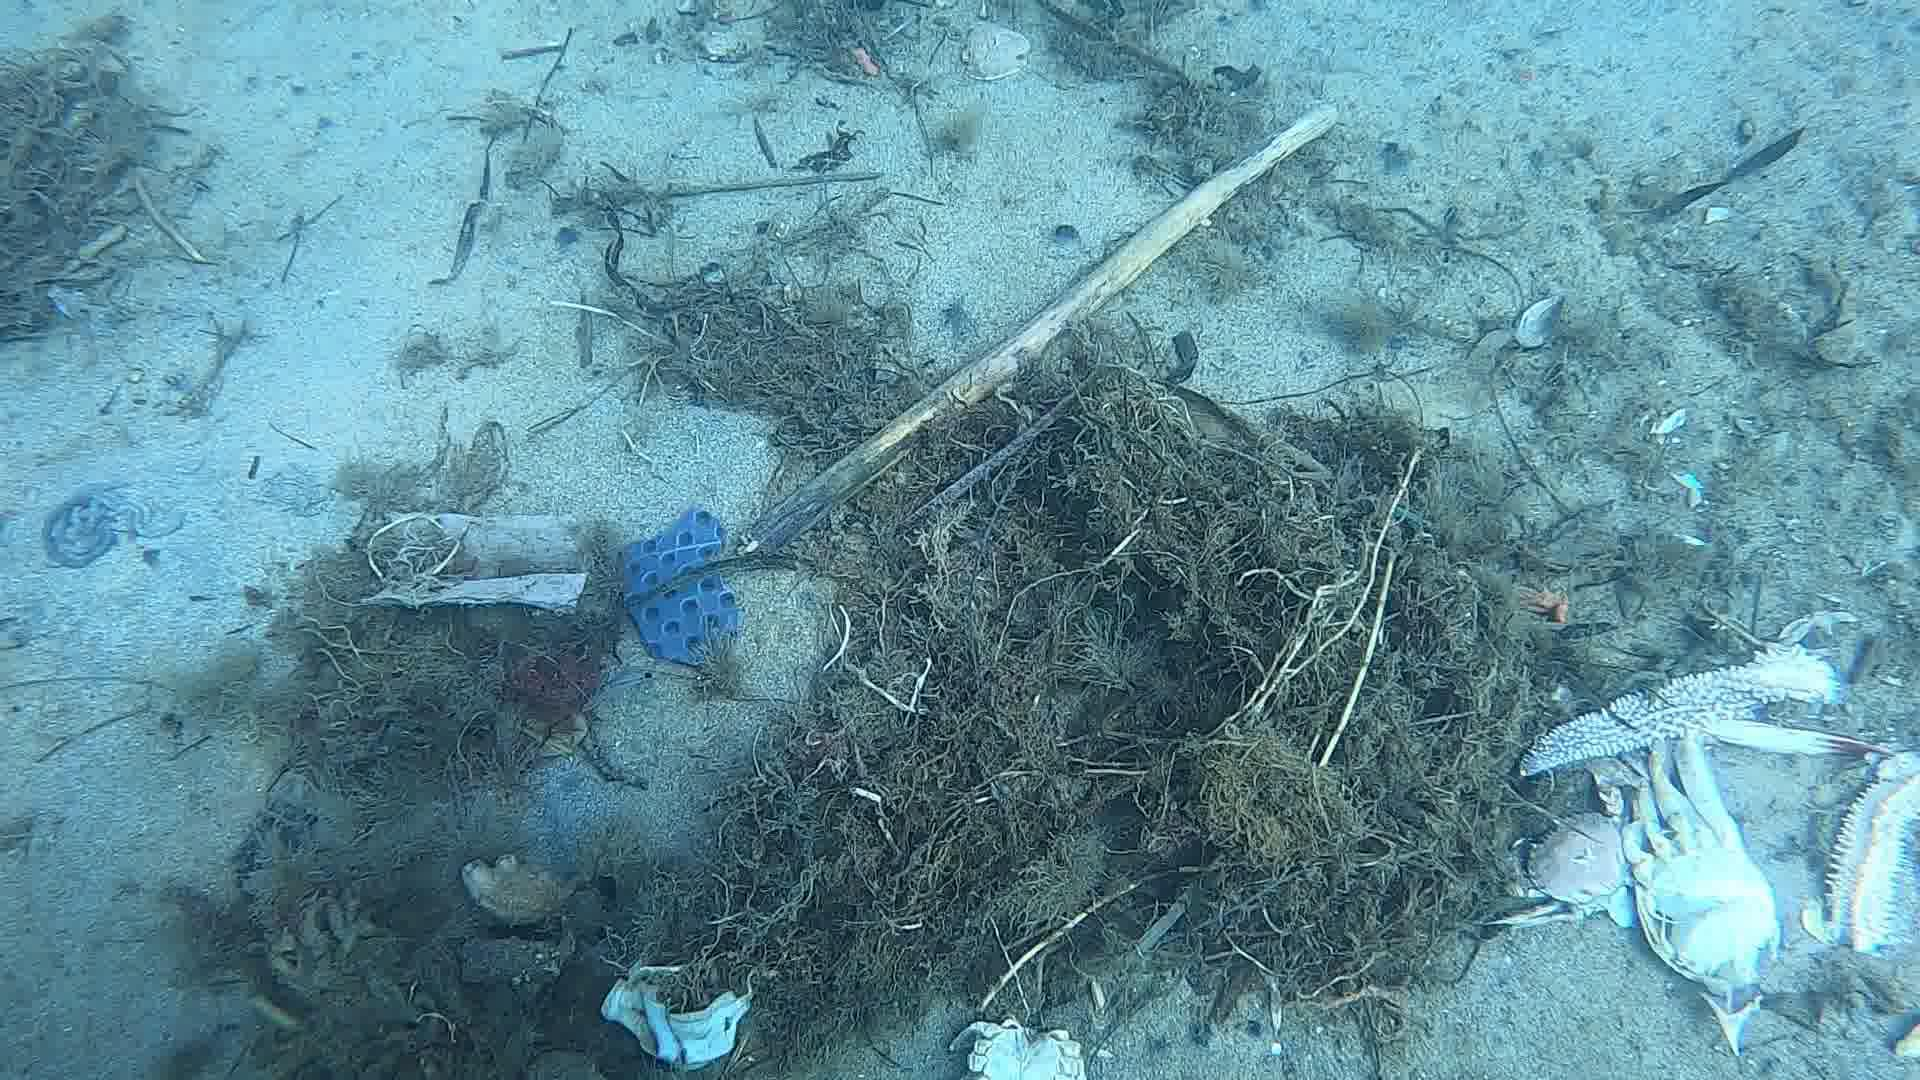wood: (750, 99, 1340, 551)
